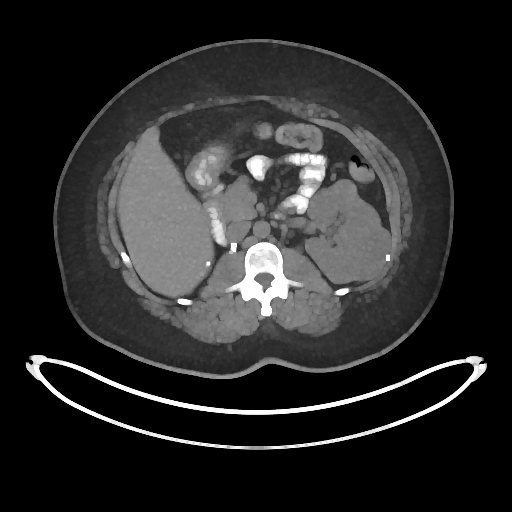Lesion: (344, 218, 391, 282)
